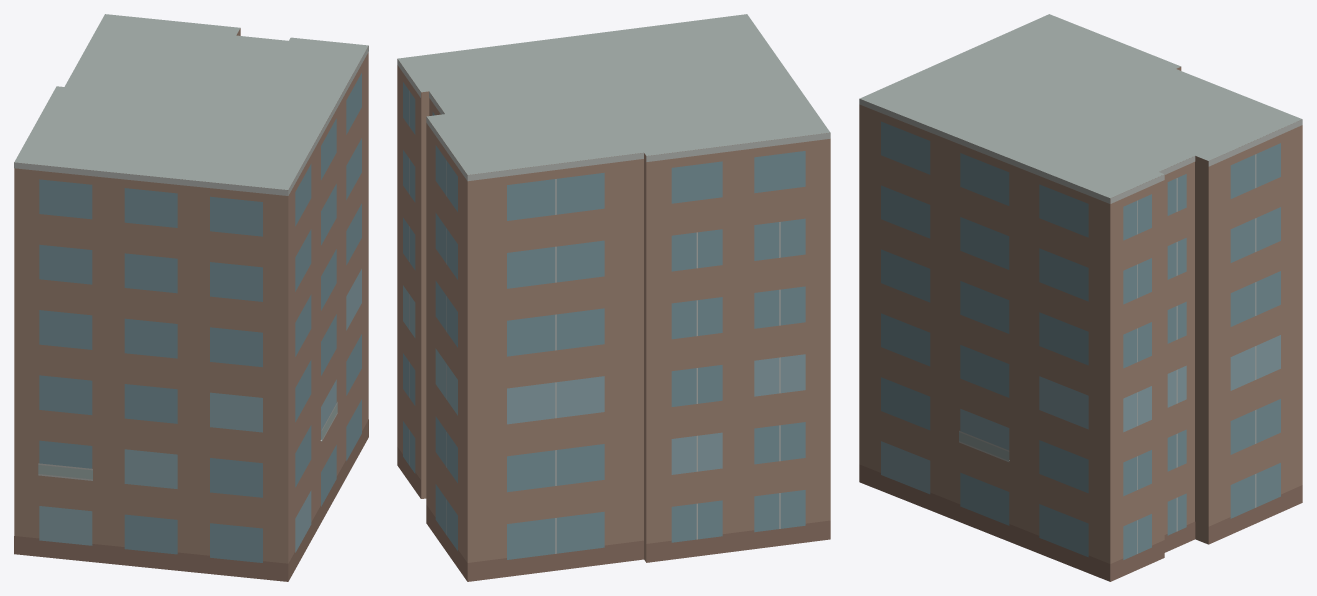
Rendered from survey-upis-32871164.glb.
3 views of the same model, side by side, from view 1: azimuth 30°, elevation 25°; view 2: azimuth 150°, elevation 25°; view 3: azimuth 270°, elevation 25° (orthographic). The views are drawn at different scales.
Parts seen in each view (by area): view 1: survey-upis-32871164.tmp; view 2: survey-upis-32871164.tmp; view 3: survey-upis-32871164.tmp.
Boxes of the visible parts, left/top/right/bottom form: survey-upis-32871164.tmp: left=14, top=14, right=368, bottom=581; survey-upis-32871164.tmp: left=397, top=14, right=830, bottom=581; survey-upis-32871164.tmp: left=859, top=14, right=1302, bottom=581.
Bounding box in the file's own units: 16.6 × 16.1 × 16.86.
